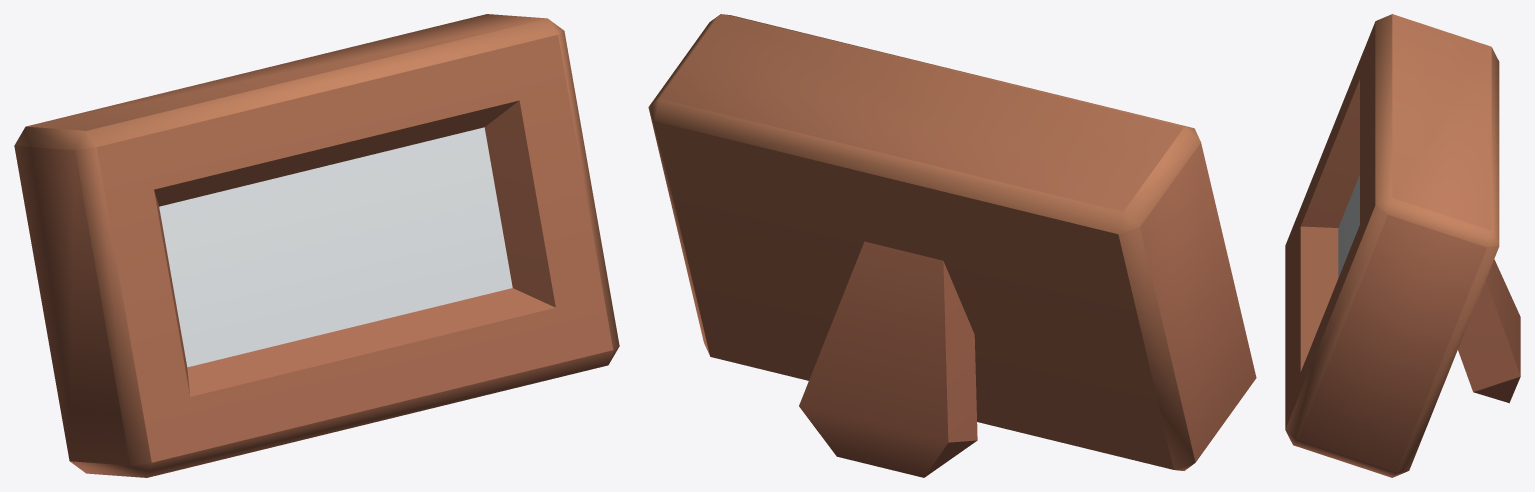
3 views of the same model, side by side, from view 1: azimuth 30°, elevation 25°; view 2: azimuth 150°, elevation 25°; view 3: azimuth 270°, elevation 25° (orthographic). The views are drawn at different scales.
Visible parts, largest first — view 1: pictureframe_standing_B; view 2: pictureframe_standing_B; view 3: pictureframe_standing_B.
Boxes of the visible parts, x1,y1,x2,y2 form: pictureframe_standing_B: [14, 14, 619, 477]; pictureframe_standing_B: [648, 14, 1256, 477]; pictureframe_standing_B: [1285, 14, 1520, 477].
Bounding box in the file's own units: 0.7 × 0.4682 × 0.357.
1 material, 1 textured.
